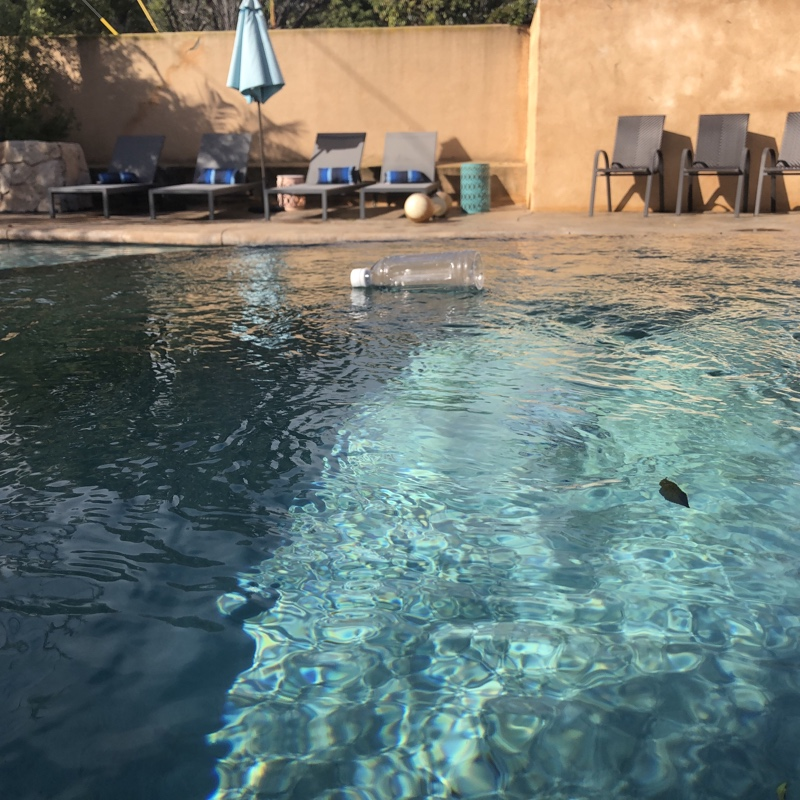Plastic Bottle: (345, 249, 490, 296)
